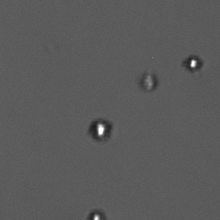Living Cell: (88, 118, 112, 142), (138, 71, 158, 92), (184, 52, 202, 74)
